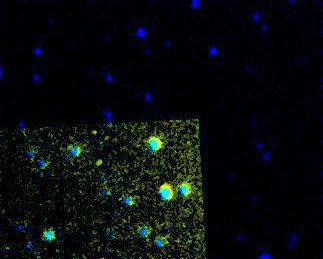star: (85, 146, 115, 176)
